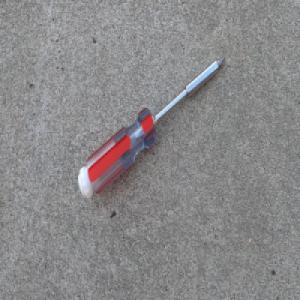Screwdriver: (75, 56, 226, 203)
